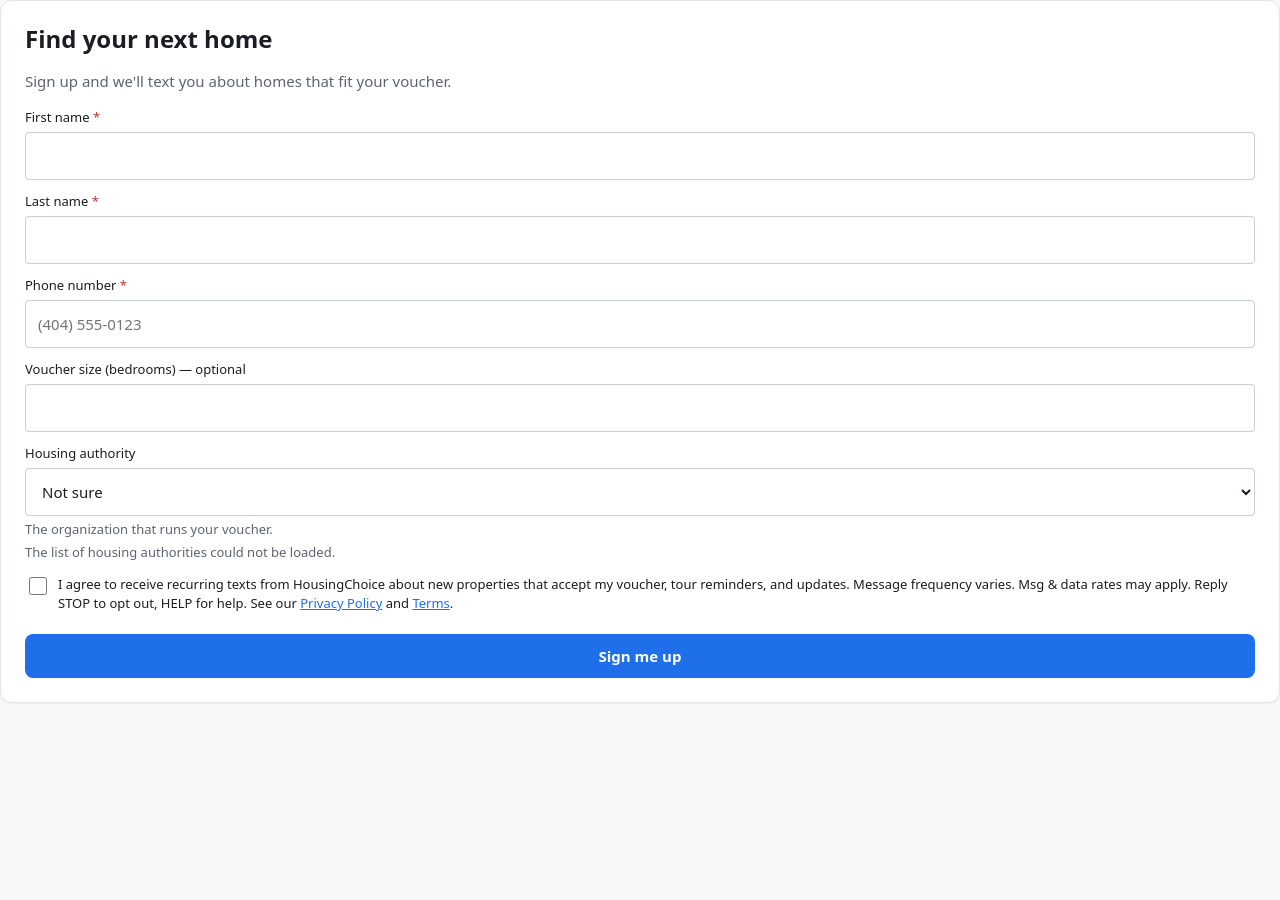
Test: the "Housing authority" select (join-housing-authority D8) › a failed read (a 429 included) leaves only "Not sure" and the note, and the sign-up still works with no authority
Expected: the button "Sign me up" is enabled, top-left (25, 634), bottom-right (1255, 678)
Expected: the dropdown labelled "Housing authority" is enabled, top-left (25, 468), bottom-right (1255, 516)
In the field labelled "First name *": coordinates (640, 156) top-left (25, 132), bottom-right (1255, 180), type "Grace"
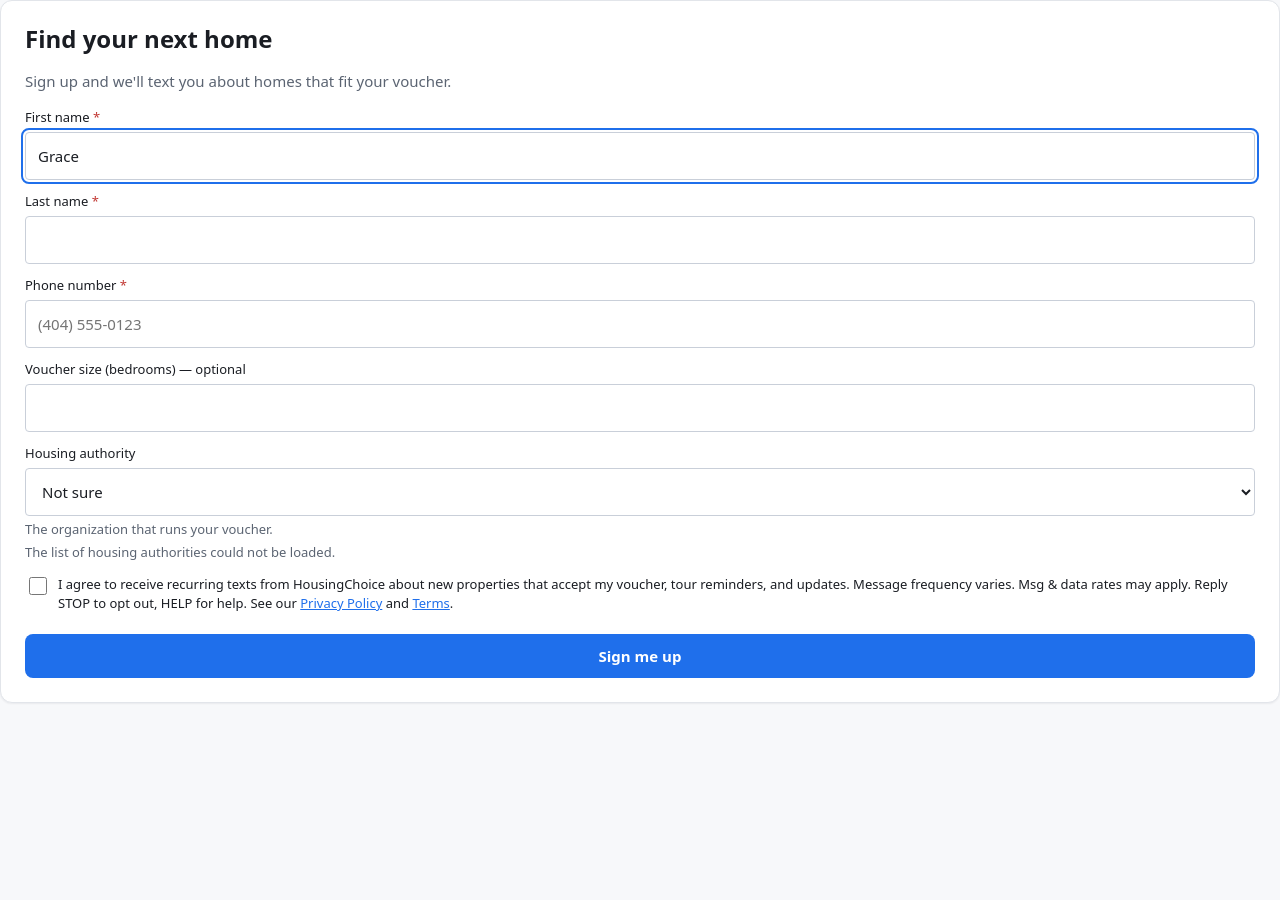
In the field labelled "Last name *": coordinates (640, 240) top-left (25, 216), bottom-right (1255, 264), type "Hopper"
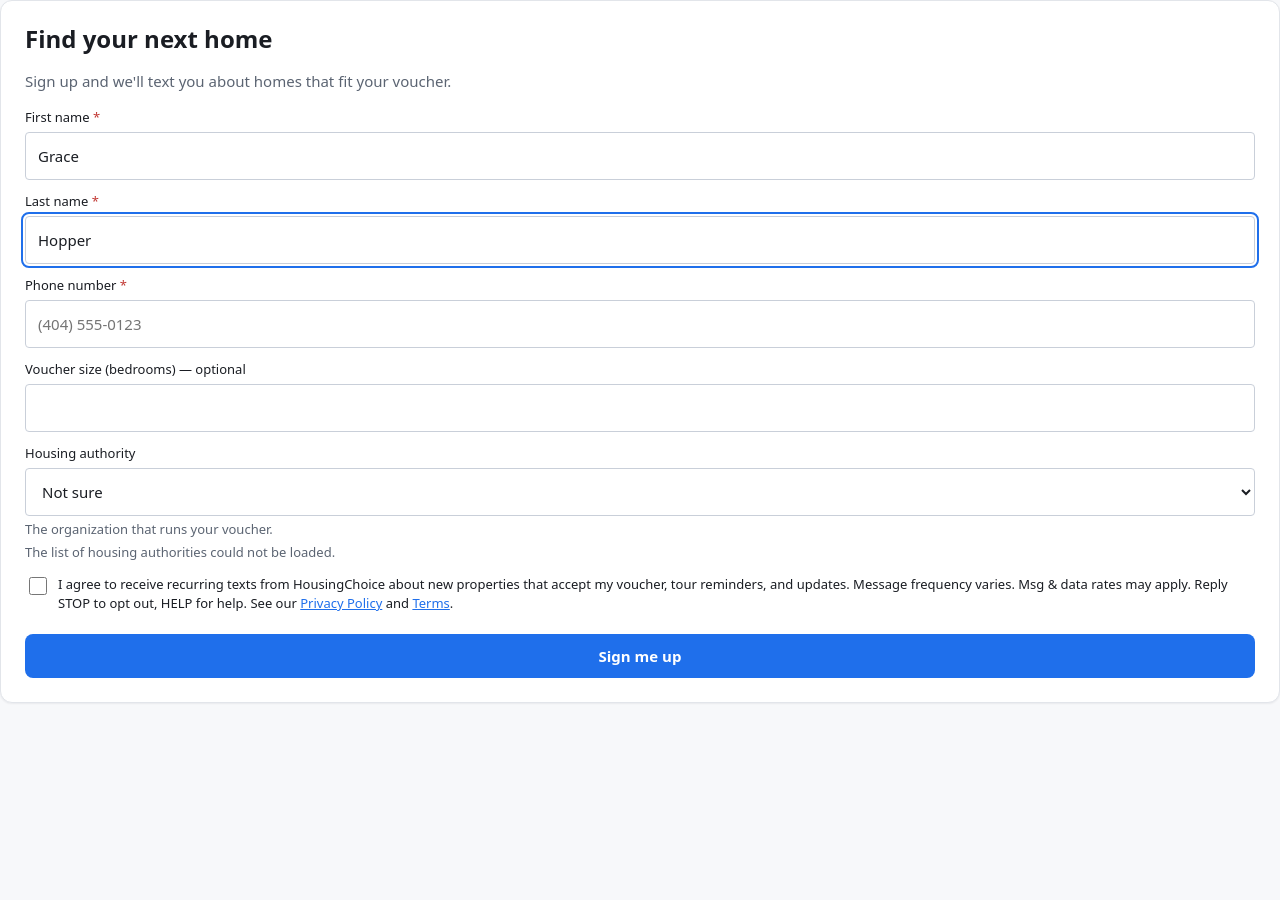
In the field labelled "Phone number *": coordinates (640, 324) top-left (25, 300), bottom-right (1255, 348), type "4045559999"
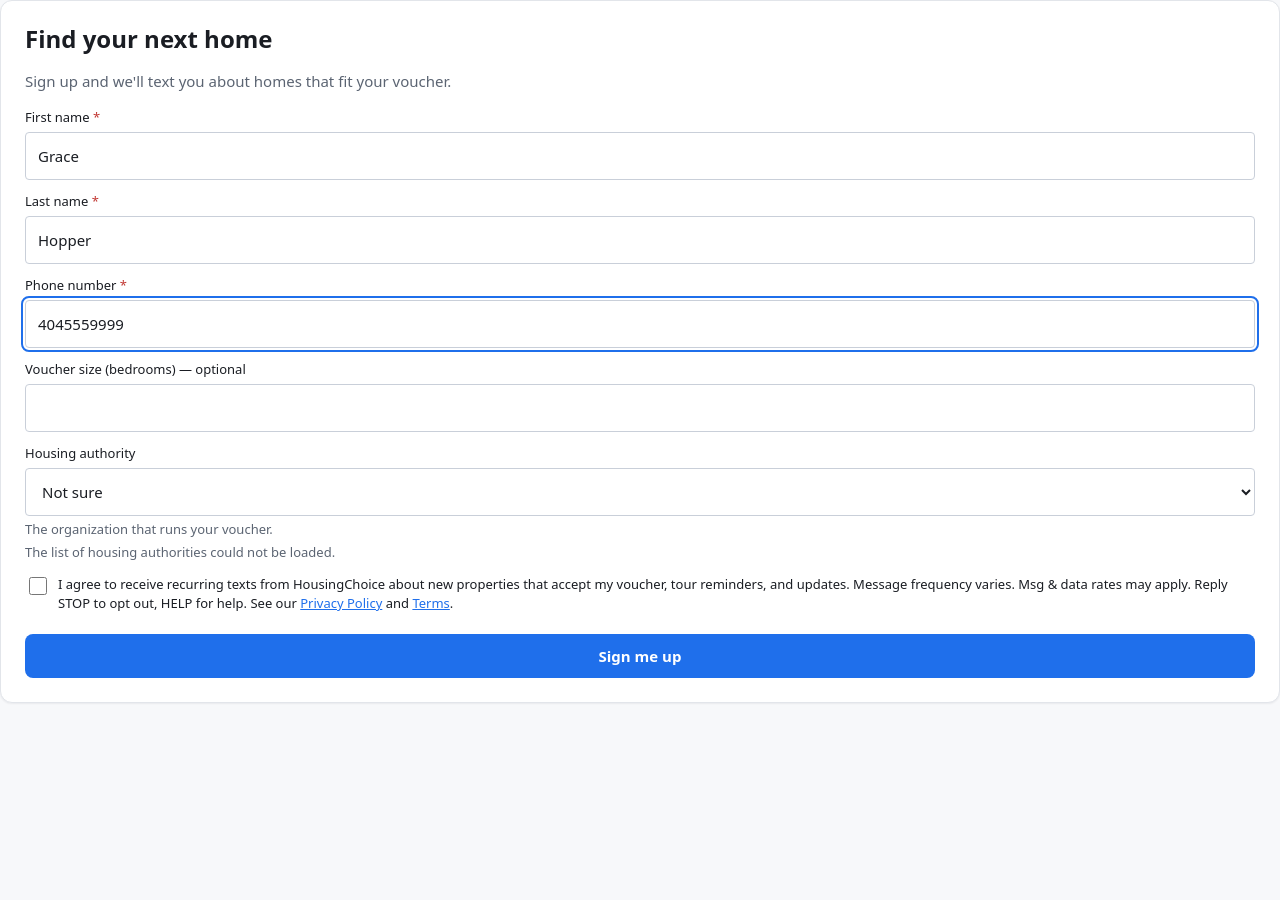
Click the checkbox labelled "I agree to receive": coordinates (38, 586) top-left (29, 577), bottom-right (47, 595)
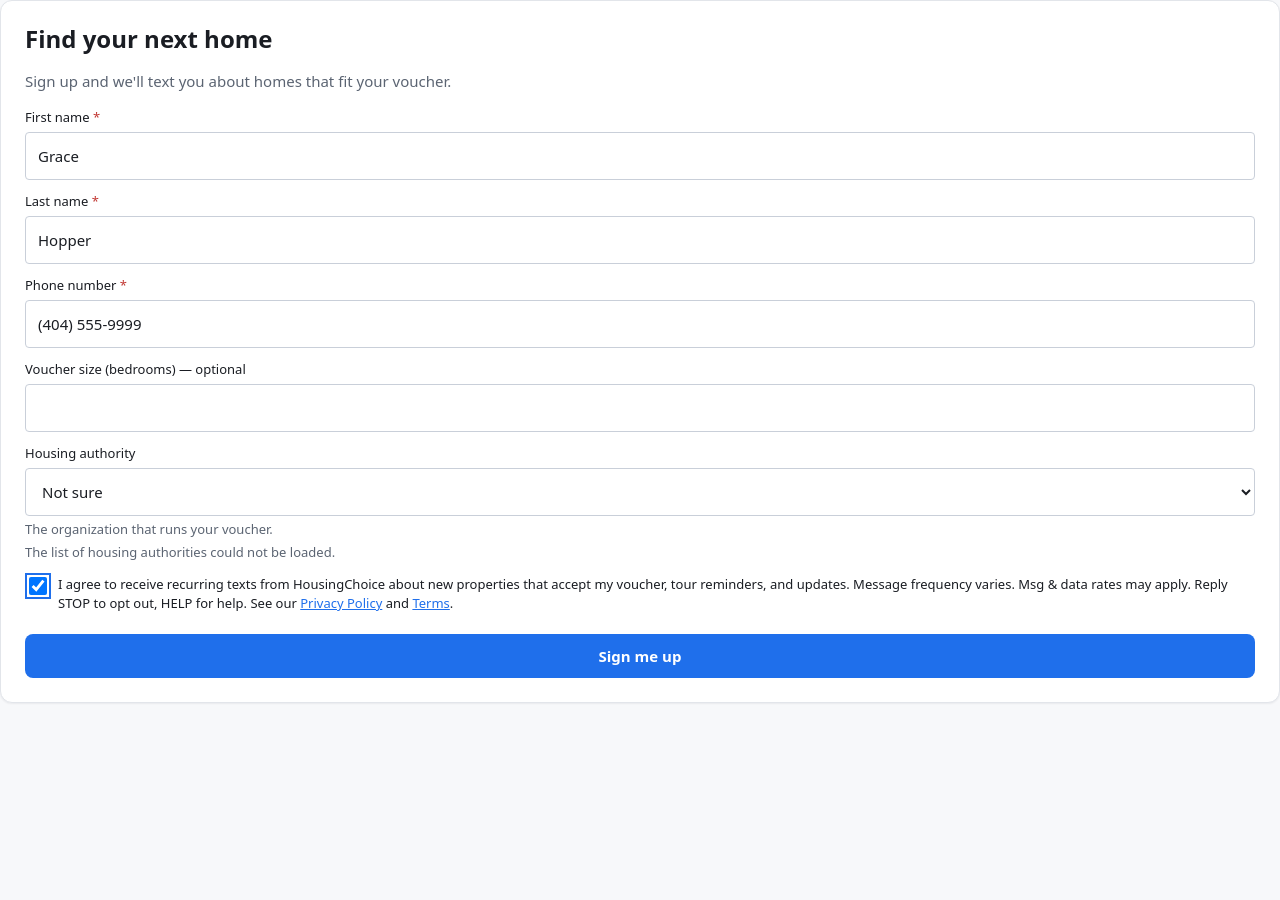
Click the button "Sign me up": coordinates (640, 656) top-left (25, 634), bottom-right (1255, 678)
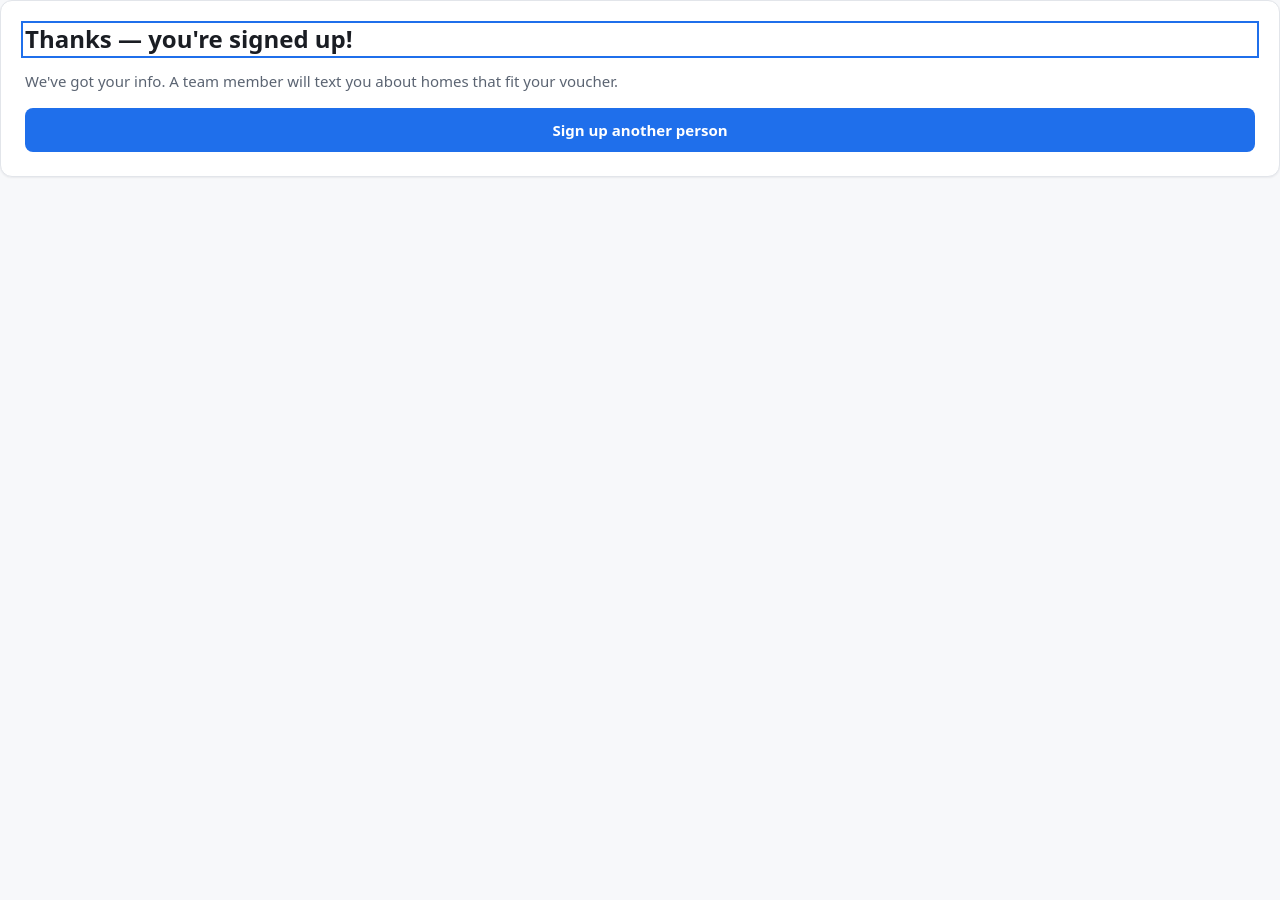
Now the heading "Thanks — you're signed up!" is shown, box top-left (25, 22), bottom-right (353, 55)
